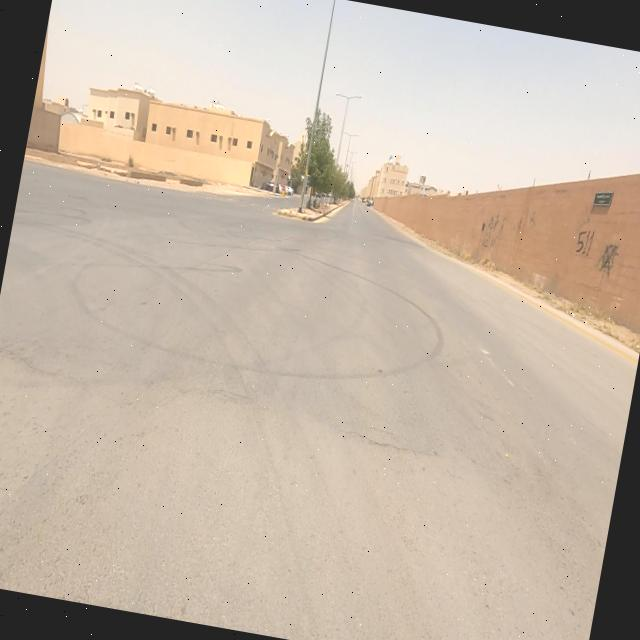Graffiti: (482, 213, 506, 251), (598, 242, 620, 281), (574, 226, 596, 261)
